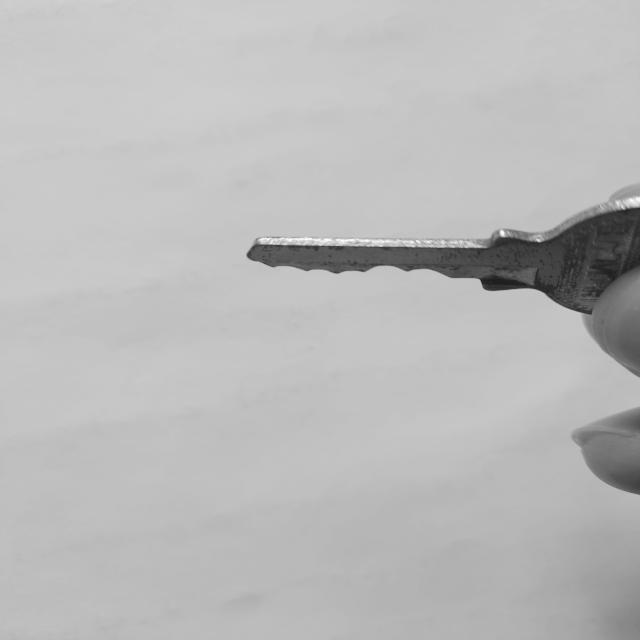KEY: (247, 196, 640, 314)
